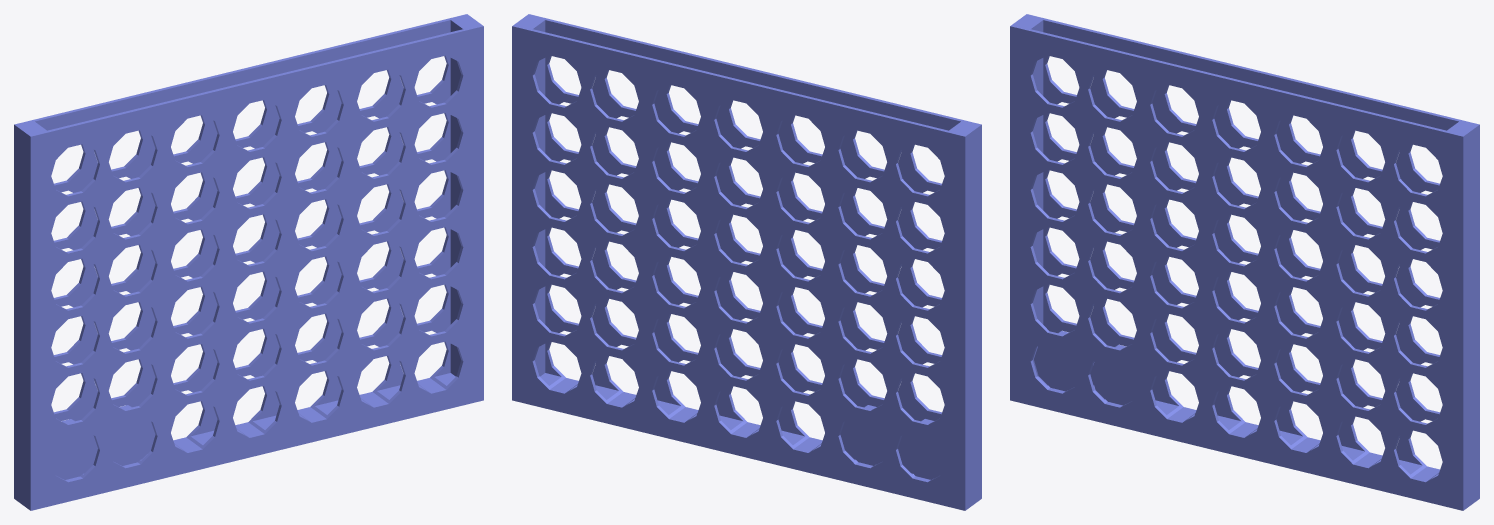
Rendered from 4EnRaya.fbx.
The picture shows the model from 3 angles, left to right: view 1: azimuth 30°, elevation 25°; view 2: azimuth 150°, elevation 25°; view 3: azimuth 330°, elevation 25°; orthographic projection.
Parts seen in each view (by area): view 1: tablero, fichaAzul, fichaRoja; view 2: tablero, fichaAzul, fichaRoja; view 3: tablero, fichaRoja, fichaAzul.
Part boxes in pixels (<box>): tablero: <box>14,14,483,510</box>; fichaAzul: <box>51,419,97,479</box>; fichaRoja: <box>109,405,155,465</box>; tablero: <box>512,14,981,510</box>; fichaAzul: <box>898,419,944,479</box>; fichaRoja: <box>840,405,886,465</box>; tablero: <box>1010,14,1479,510</box>; fichaRoja: <box>1090,344,1136,405</box>; fichaAzul: <box>1034,331,1094,391</box>.
Bounding box in the file's own units: 110 × 86.63 × 6.99.
